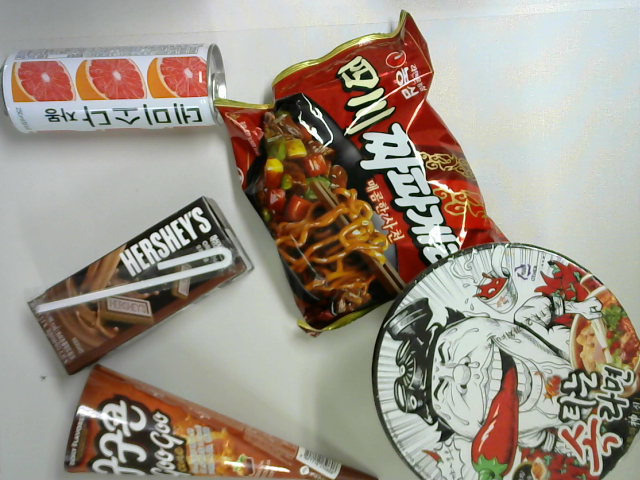Demisoda_Grapefruit_Can_250ml: (1, 41, 235, 144)
GooGoo_Cone_CVS: (56, 361, 383, 480)
HeJangsock: (366, 236, 640, 480)
Hush_Choco_Drink: (21, 194, 257, 383)
Sichuan_Chapaghetti: (210, 1, 515, 344)
